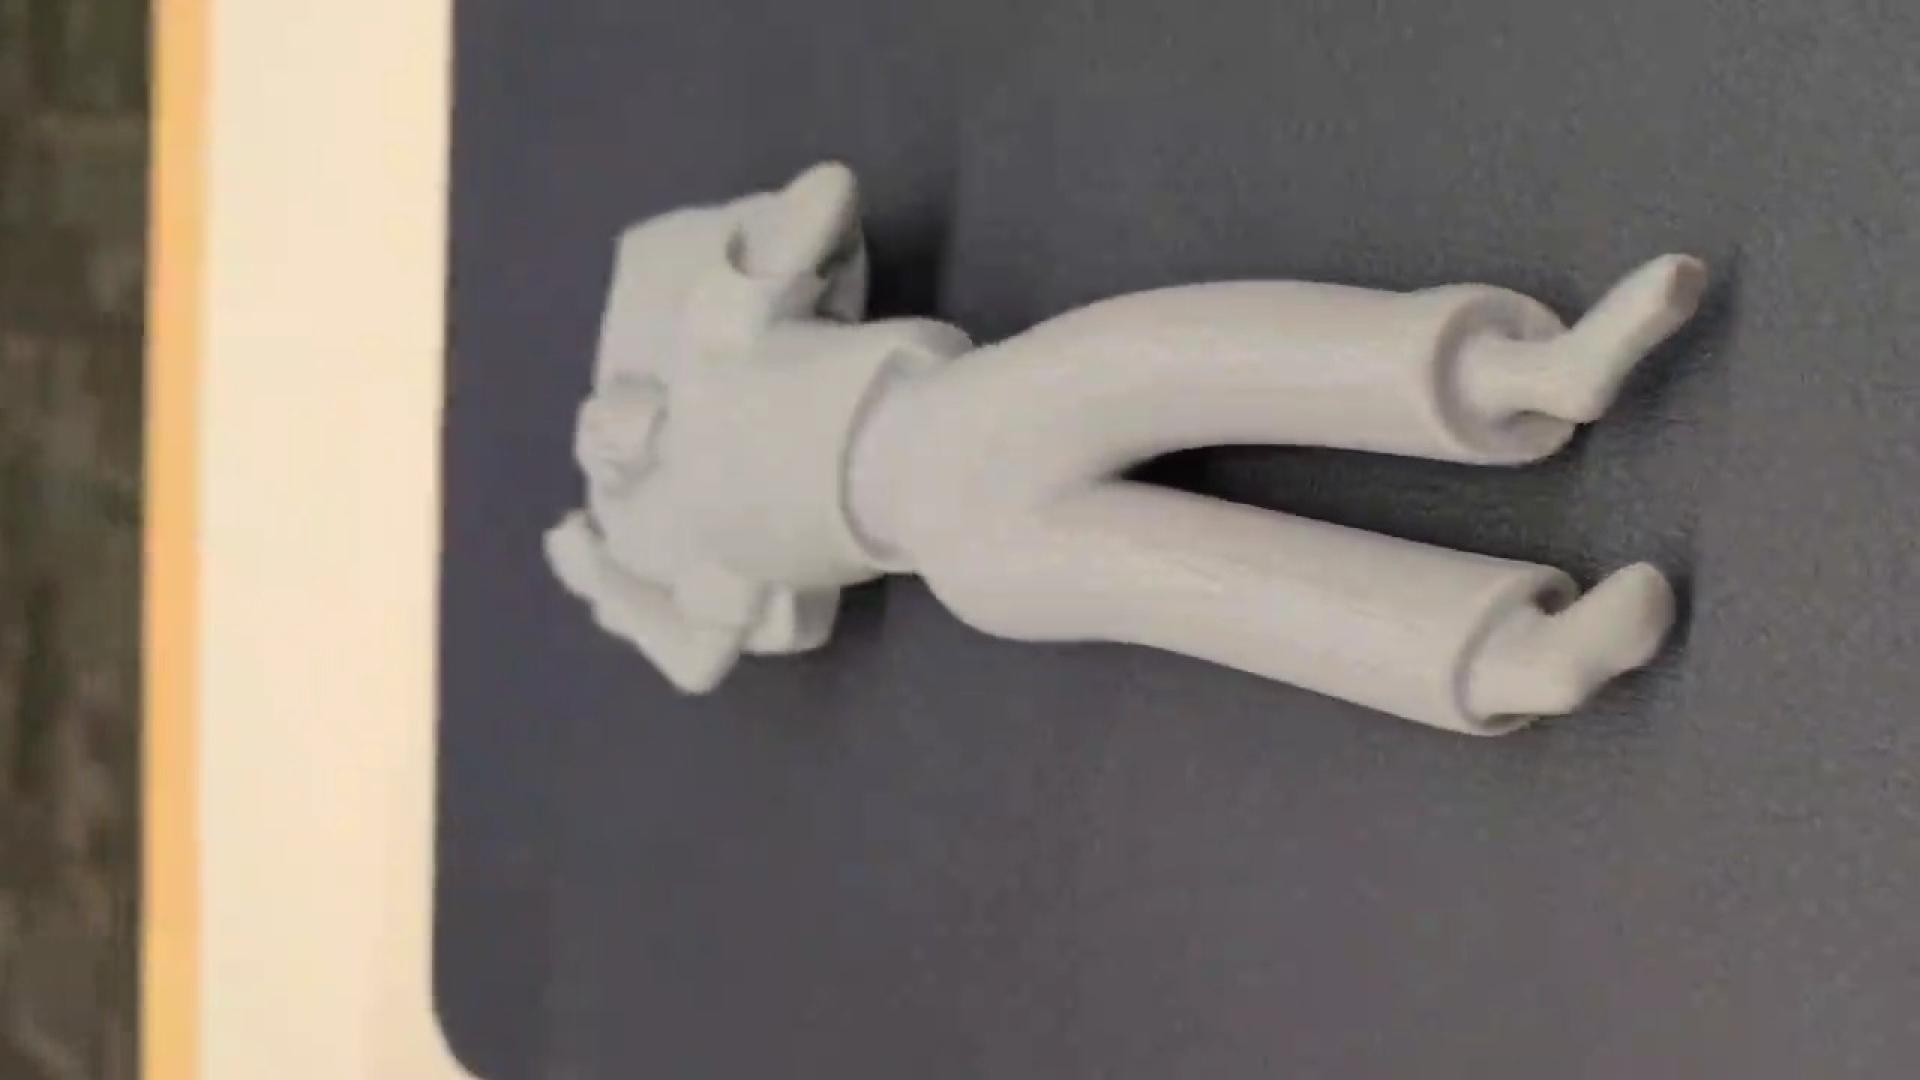Bad-style: (543, 158, 1706, 746)
